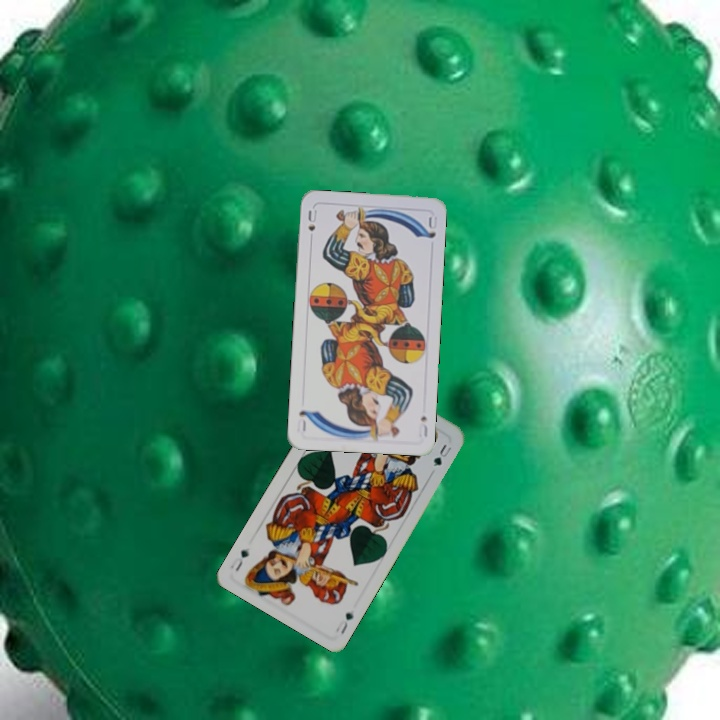GU: (332, 608, 356, 637)
SU: (416, 411, 430, 440), (304, 206, 319, 233)
